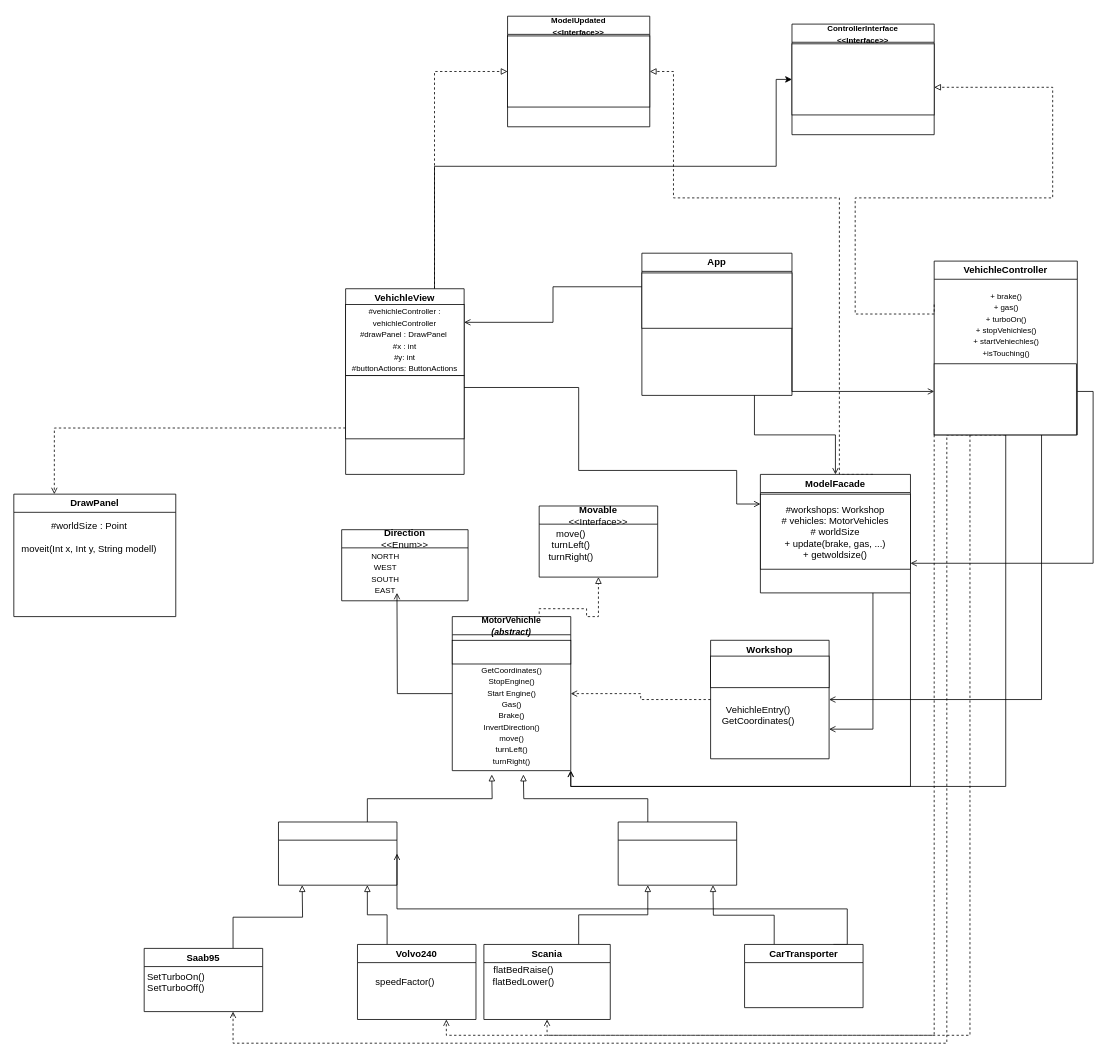
Some shapes in this 1114 by 1063 pixel diagram are drawn without their labels. The centre of each missing label's shape, as x and y in pixels:
#timer: Timer # vc: VehichlController # model: Model # view: VehichleView: (716,300)
#vehichlesInRepair : List<T extends MotorVehichle> #xAndY : Point2D.Double: (769,671)
+ gas() + brake() + turboOn() + stopVehichles() + startVehichles(): (862,79)
+ modelUpdateNotification(): (578,71)
- class TimerListner { + actionPerformed(actionEvent) }: (1004,399)
Car: (337,853)
Truck: (677,853)
update(list(pos, str)): (404,407)
xAndY direction: (511,652)
